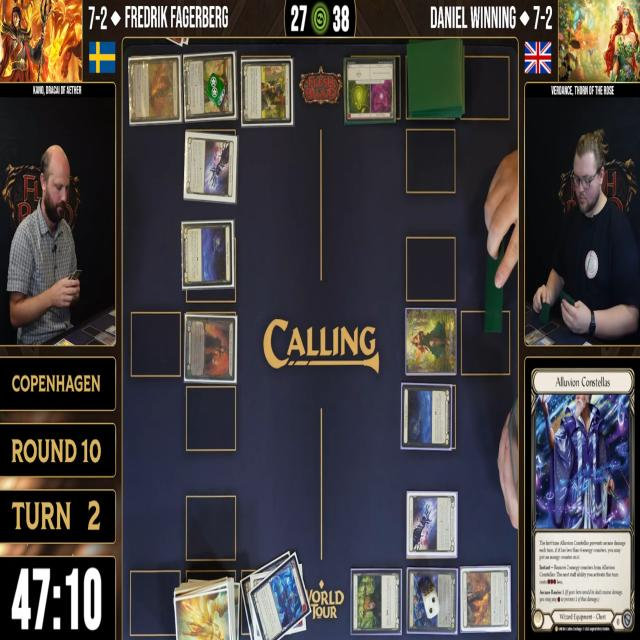Alluvion_Constellas_UPR166: (406, 566, 459, 636)
Fyendals_Spring_Tunic_CRU178: (181, 50, 238, 124)
Kano_Dracai_of_Aether_CRU158: (183, 310, 239, 386)
Metacarpus_Node_CRU161: (182, 127, 239, 205), (405, 488, 459, 562)
Photon_Splicing_ROS204: (245, 548, 312, 640)
Plume_of_Evergrowth_ELE116: (350, 566, 402, 636)
Pulsing_Aether__Life_ROS018: (343, 56, 397, 126)
Ragamuffins_Hat_ELE233: (239, 54, 295, 130)
Storm_Striders_ARC116: (127, 54, 182, 126), (460, 564, 512, 634)
Verdance_Thorn_of_the_Rose_ROS013: (404, 304, 458, 378)
Waning_Moon_UPR165: (180, 218, 236, 290), (399, 382, 454, 452)
